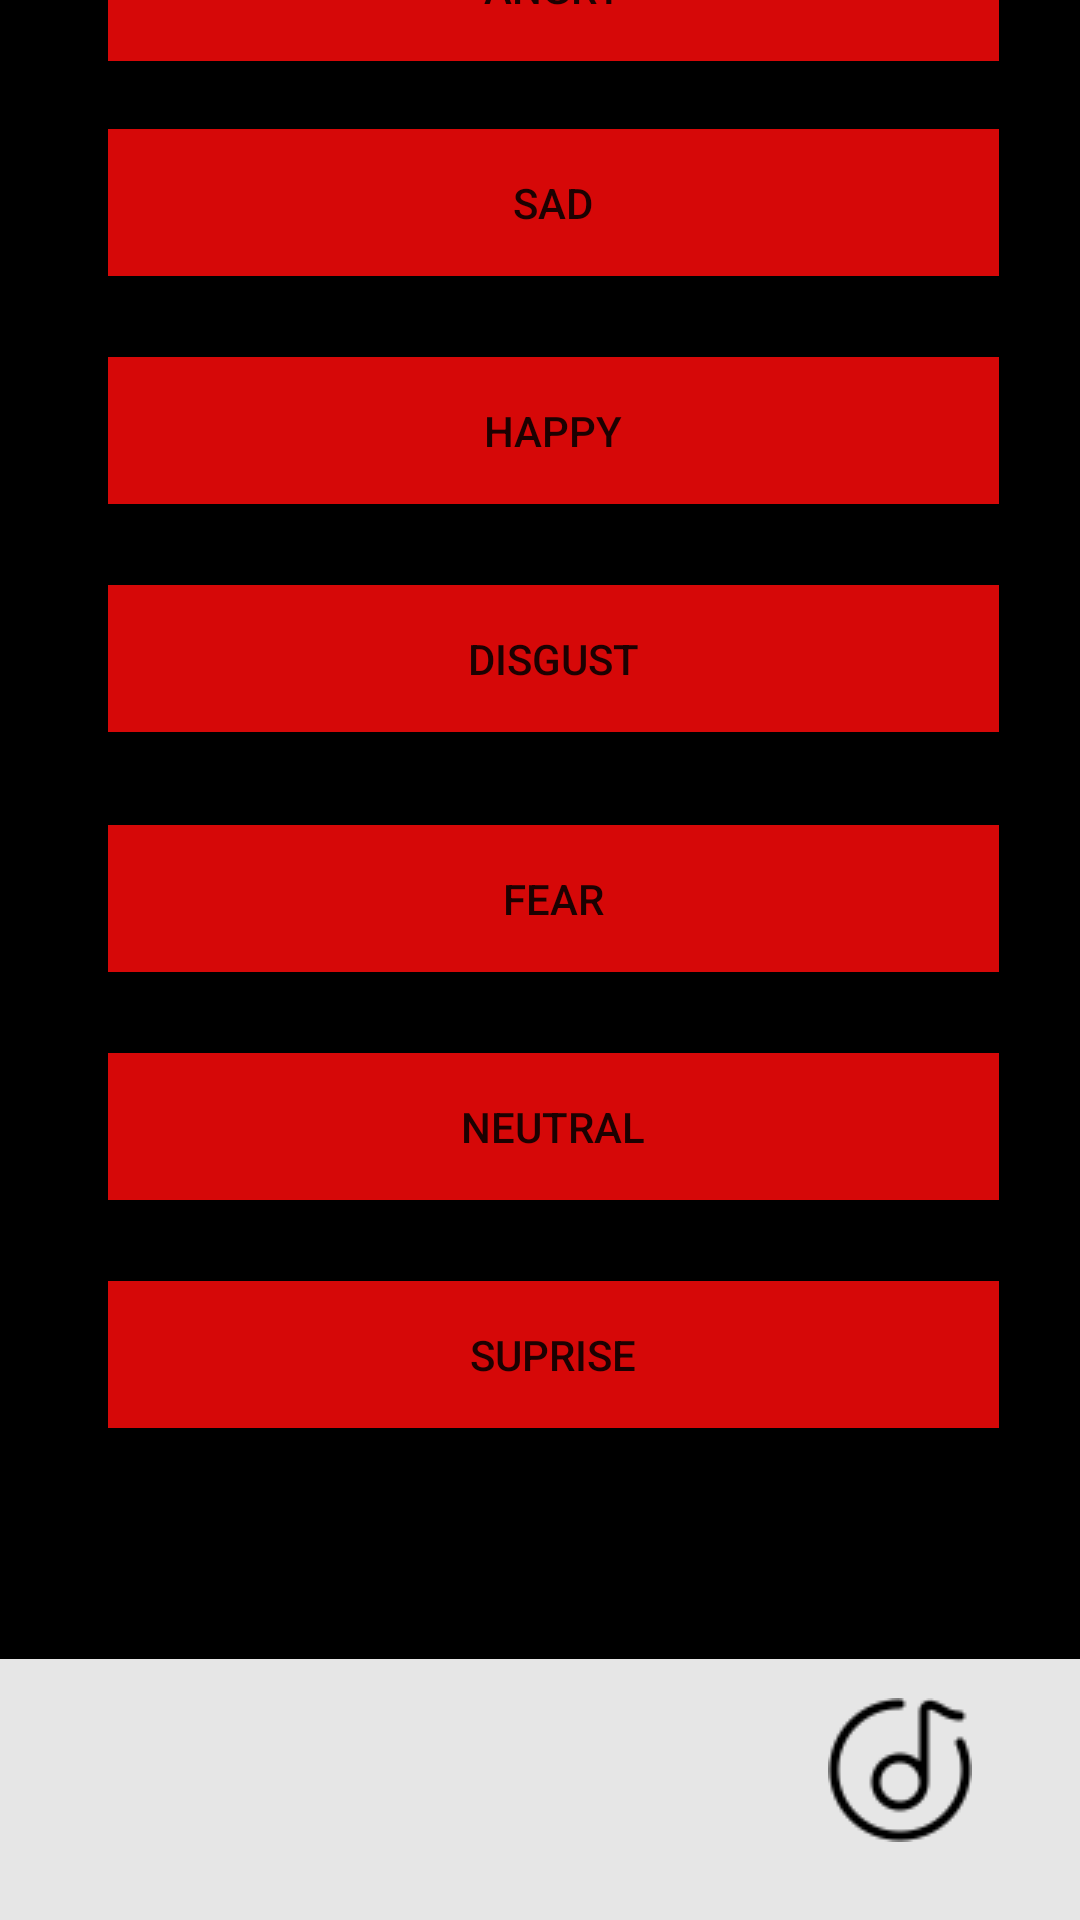

Named icons in this screenshot (1080x1920) and their centers, [x,y]:
songs: [900,1770]
